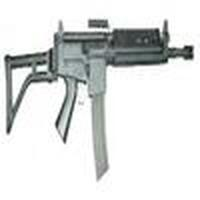gun: (4, 19, 199, 136)
